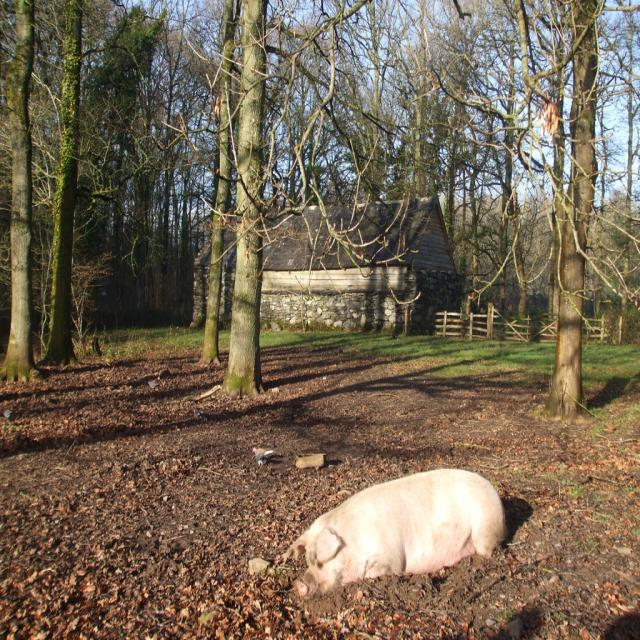Pig: (280, 468, 509, 598)
